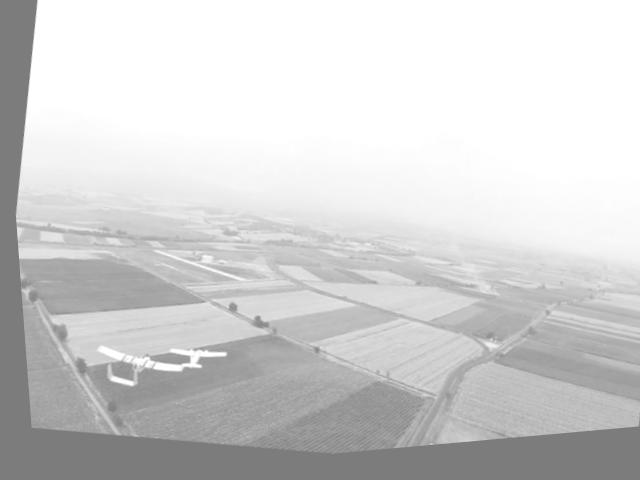hedef: (78, 330, 183, 407)
